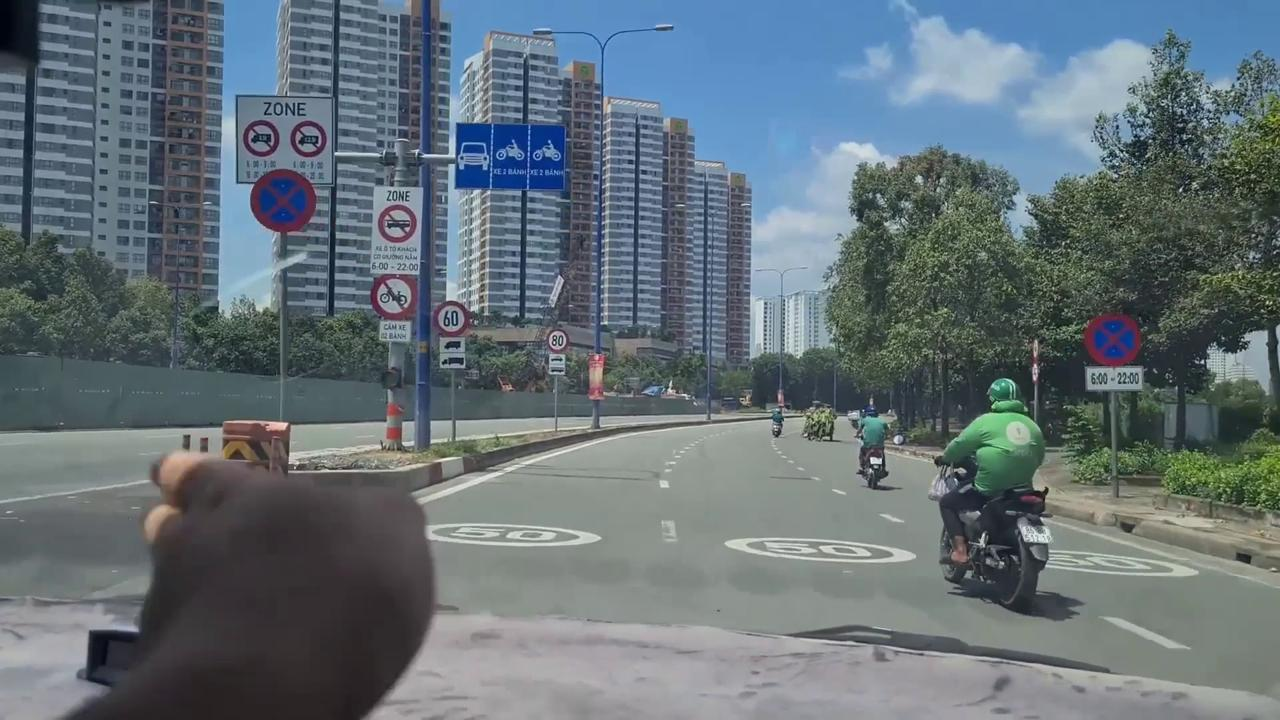Biển phụ: (1084, 365, 1145, 392), (438, 336, 467, 370), (378, 320, 412, 344), (548, 353, 566, 376)
Cấm cac phương tiện hoạt động trong khung giờ cố định: (232, 93, 338, 188), (370, 184, 422, 274)
Cấm dừng - Cấm đỗ: (248, 168, 318, 236), (1083, 312, 1143, 366)
Cấm xe máy: (371, 274, 418, 320)
GIơi hạn tốc độ 60Km/h: (432, 300, 470, 337)
Giới hạn tốc độ 80Km/h: (546, 329, 569, 354)
Làn đường cho từng xe: (453, 121, 564, 192)
